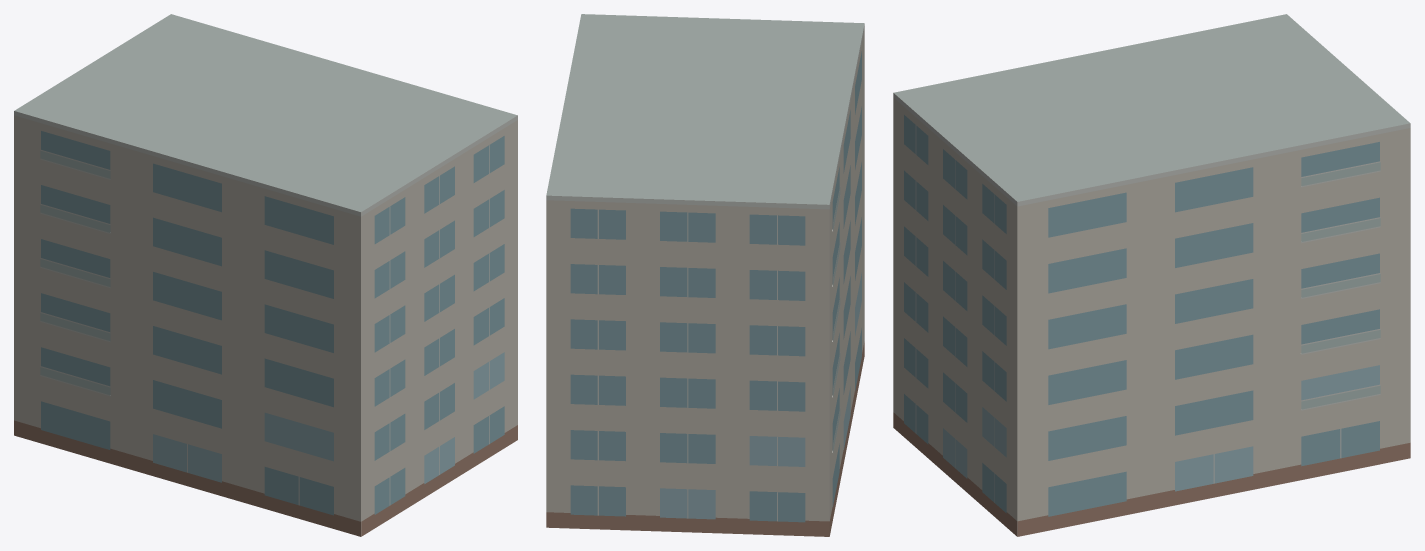
File: survey-upis-32932245.glb
The picture shows the model from 3 angles, left to right: view 1: azimuth 30°, elevation 25°; view 2: azimuth 150°, elevation 25°; view 3: azimuth 270°, elevation 25°; orthographic projection. The views are drawn at different scales.
Visible parts, largest first — view 1: survey-upis-32932245.tmp; view 2: survey-upis-32932245.tmp; view 3: survey-upis-32932245.tmp.
Part boxes in pixels (box(x1,y1,x2,y2)): survey-upis-32932245.tmp: box(14, 14, 517, 536); survey-upis-32932245.tmp: box(546, 14, 864, 536); survey-upis-32932245.tmp: box(893, 14, 1410, 536).
Bounding box in the file's own units: 21.19 × 17.6 × 24.64.
